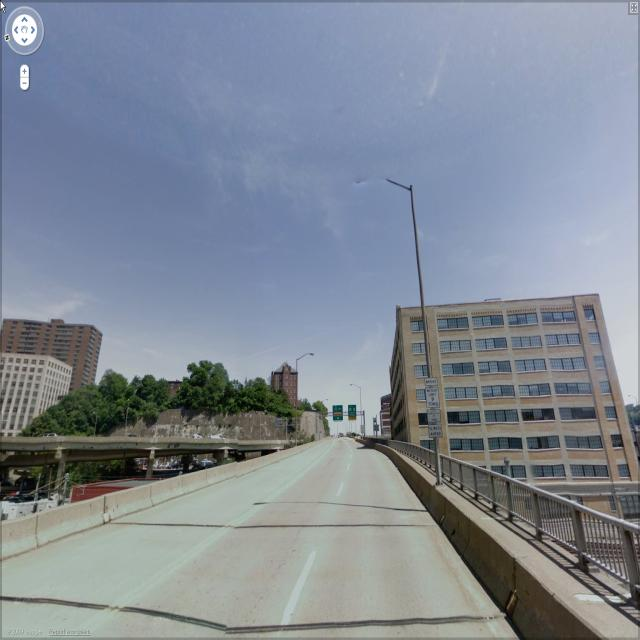b_1: (388, 289, 640, 486), (0, 303, 106, 381), (0, 354, 74, 425), (266, 353, 298, 403), (375, 392, 401, 444)
